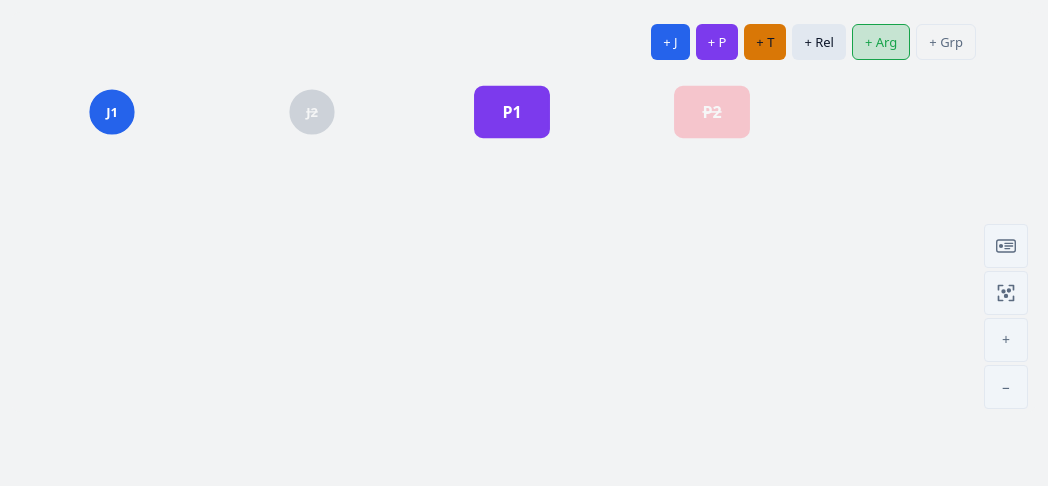
Test case: clicking a node pins its tooltip › pins the tooltip with the text tab's actions
Press the mouse on the icon "J1 P1 J2 P2" at (524, 212), box [12,12,1036,412]
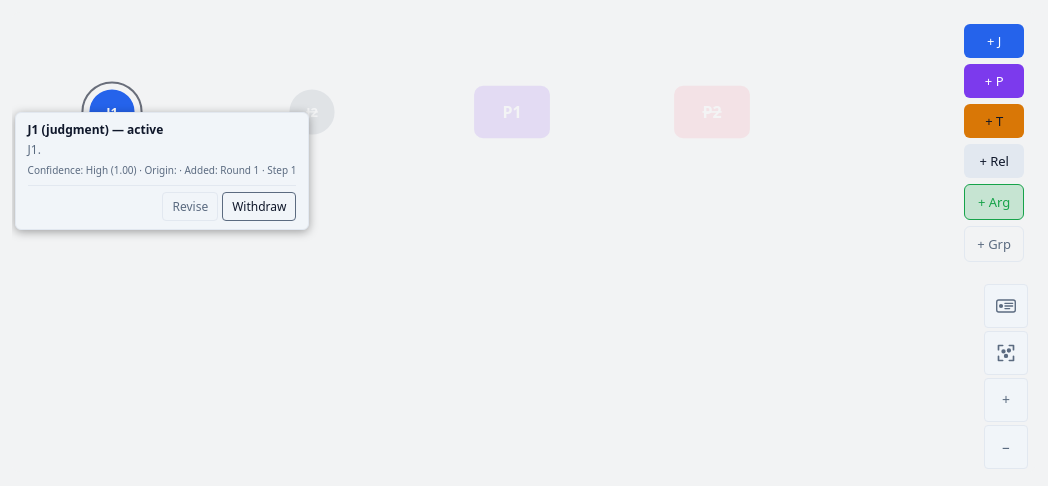
Expected: the element that starts with "J1 (judgment) — active" is shown, [12,112,312,230]
